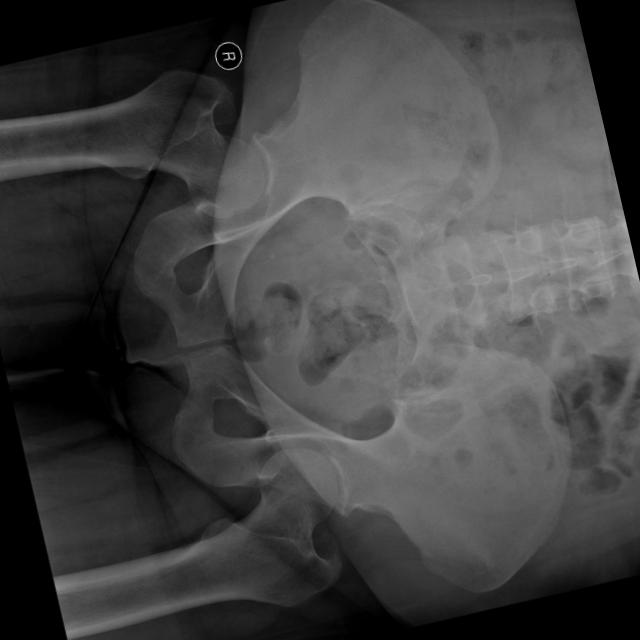normal-left: (134, 448, 341, 621)
normal-right: (5, 71, 263, 218)
